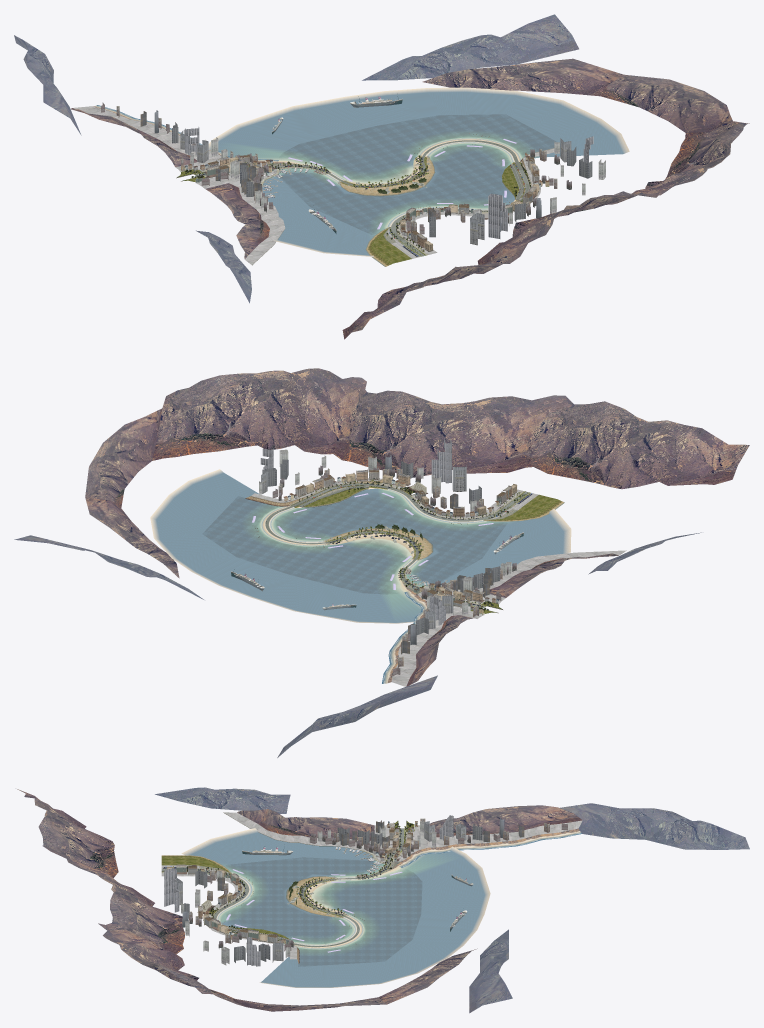
File: stage-palm-t.glb
The picture shows the model from 3 angles, top to bottom: view 1: azimuth 30°, elevation 25°; view 2: azimuth 150°, elevation 25°; view 3: azimuth 270°, elevation 25°; orthographic projection. The views are drawn at different scales.
Visible parts, largest first — view 1: part 5, part 1, part 2, env part 0, part 6, part 0, env part 1, env part 2; view 2: part 1, part 5, part 2, env part 0, env part 2, part 0, part 6, env part 1; view 3: part 1, part 5, part 2, env part 0, part 6, part 0.
Boxes of the visible parts, left/top/right/bottom form: part 5: left=208, top=87, right=629, bottom=256; part 1: left=14, top=14, right=749, bottom=339; part 2: left=101, top=102, right=605, bottom=251; env part 0: left=195, top=138, right=529, bottom=256; part 6: left=262, top=96, right=529, bottom=256; part 0: left=195, top=139, right=528, bottom=255; env part 1: left=178, top=156, right=530, bottom=258; env part 2: left=206, top=153, right=545, bottom=212; part 1: left=14, top=368, right=749, bottom=757; part 5: left=150, top=469, right=571, bottom=623; part 2: left=259, top=438, right=517, bottom=675; env part 0: left=261, top=483, right=527, bottom=608; env part 2: left=284, top=469, right=482, bottom=602; part 0: left=263, top=483, right=528, bottom=608; part 6: left=231, top=483, right=532, bottom=610; env part 1: left=278, top=483, right=537, bottom=613; part 1: left=17, top=787, right=749, bottom=1013; part 5: left=181, top=828, right=490, bottom=987; part 2: left=164, top=815, right=567, bottom=966; env part 0: left=162, top=830, right=404, bottom=948; part 6: left=163, top=834, right=473, bottom=945; part 0: left=161, top=828, right=404, bottom=947.
Bounding box in the file's own units: 3707 × 382 × 4980.
234 materials, 230 textured.
